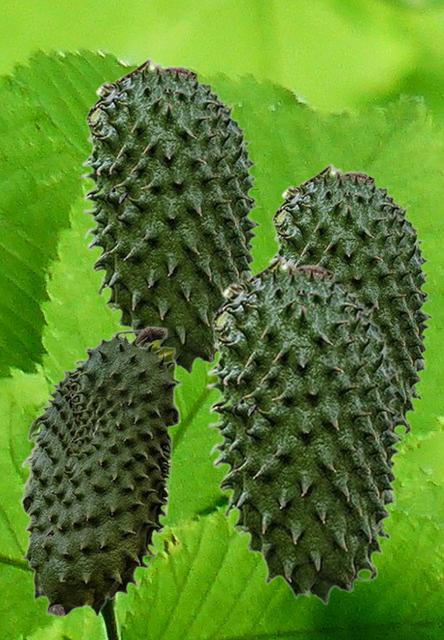guyabano: (205, 254, 404, 604), (80, 56, 261, 374), (19, 325, 181, 617), (267, 162, 433, 437)
